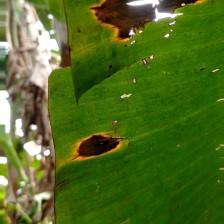cordana: (47, 0, 224, 224)
